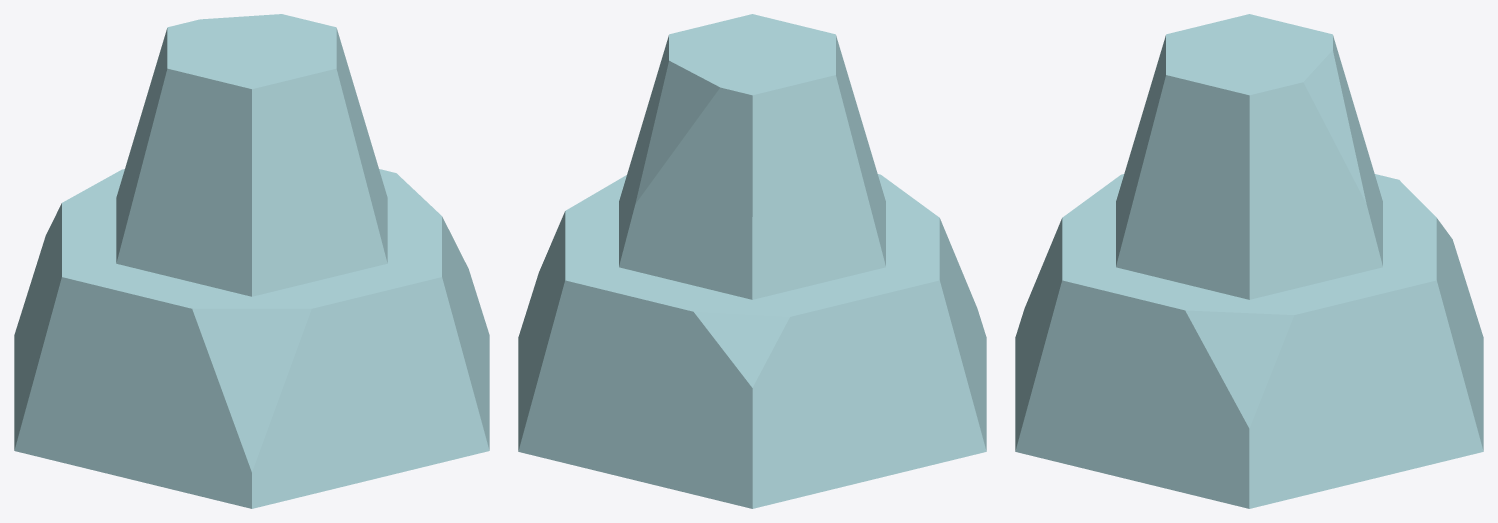
The model's file is stone_smallF.dae.
3 renders of one model, left to right at view 1: azimuth 30°, elevation 25°; view 2: azimuth 150°, elevation 25°; view 3: azimuth 270°, elevation 25°, orthographic.
Parts seen in each view (by area): view 1: stone_smallF; view 2: stone_smallF; view 3: stone_smallF.
Part boxes in pixels (x1=…): stone_smallF: x1=14, y1=14, x2=489, y2=508; stone_smallF: x1=518, y1=14, x2=986, y2=508; stone_smallF: x1=1015, y1=14, x2=1483, y2=508.
Bounding box in the file's own units: 0.3536 × 0.2453 × 0.3062.
